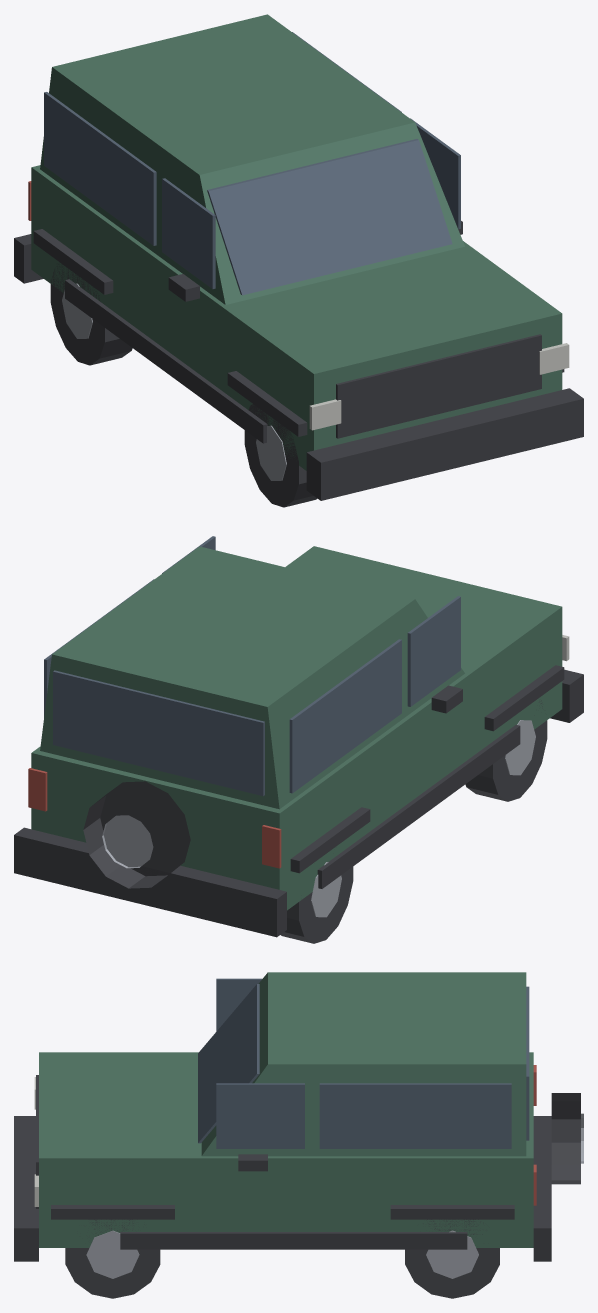
Rendered from vitara.glb.
3 renders of one model, top to bottom at view 1: azimuth 30°, elevation 25°; view 2: azimuth 150°, elevation 25°; view 3: azimuth 270°, elevation 25°, orthographic. The views are drawn at different scales.
Parts seen in each view (by area): view 1: vitara_kori, pyora_eo, pyora_to; view 2: vitara_kori, pyora_eo, pyora_to; view 3: vitara_kori, pyora_ev, pyora_tv.
Part boxes in pixels (x1,y1,x2,y2): vitara_kori: (14, 14, 583, 500); pyora_eo: (244, 404, 317, 507); pyora_to: (50, 262, 132, 365); vitara_kori: (14, 536, 583, 937); pyora_eo: (465, 700, 547, 801); pyora_to: (280, 862, 353, 943); vitara_kori: (14, 972, 583, 1261); pyora_ev: (65, 1219, 160, 1298); pyora_tv: (405, 1219, 499, 1298).
Size of the model in its own units: 1.9 by 1.7 by 3.86.
